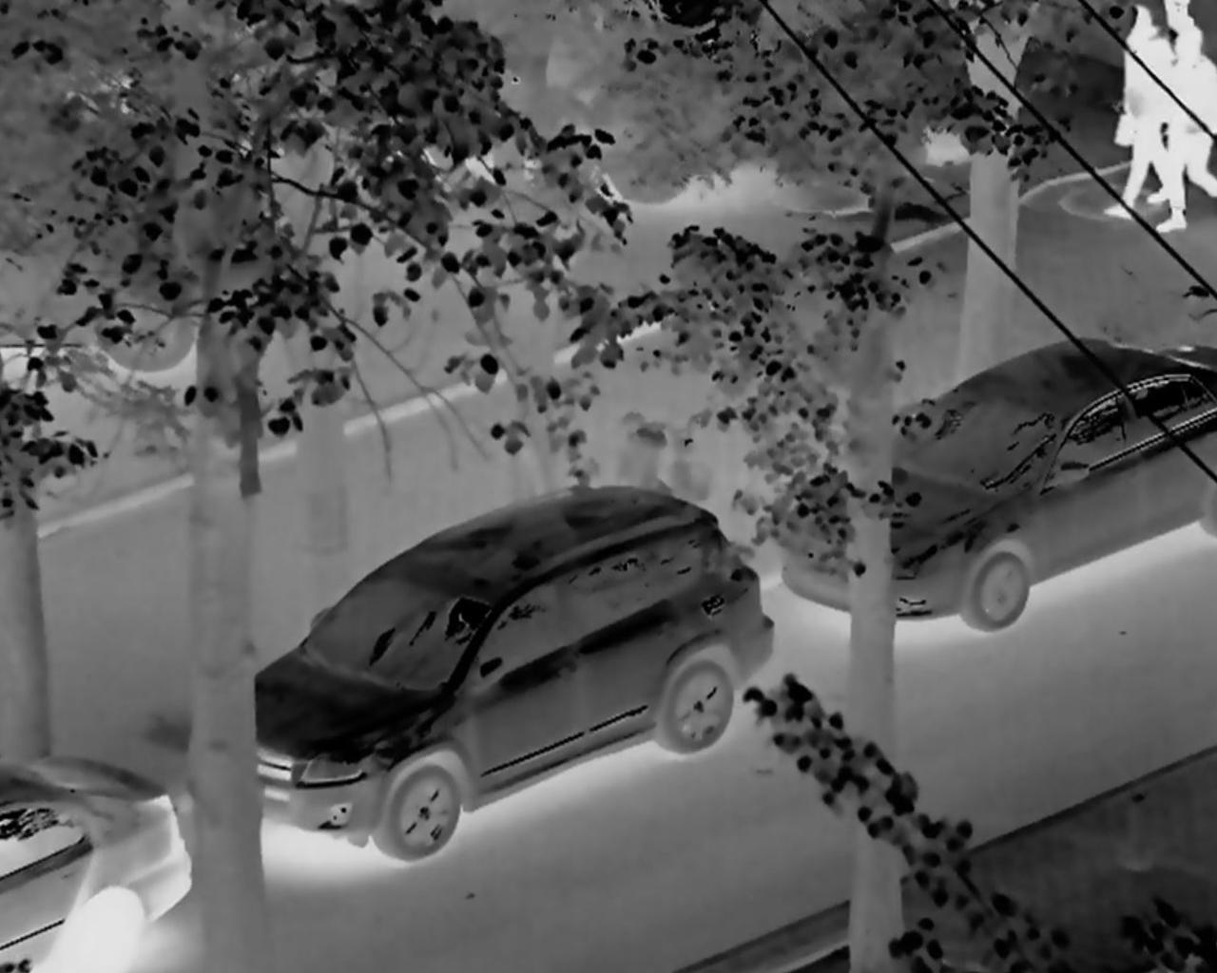person: (1160, 18, 1217, 241)
